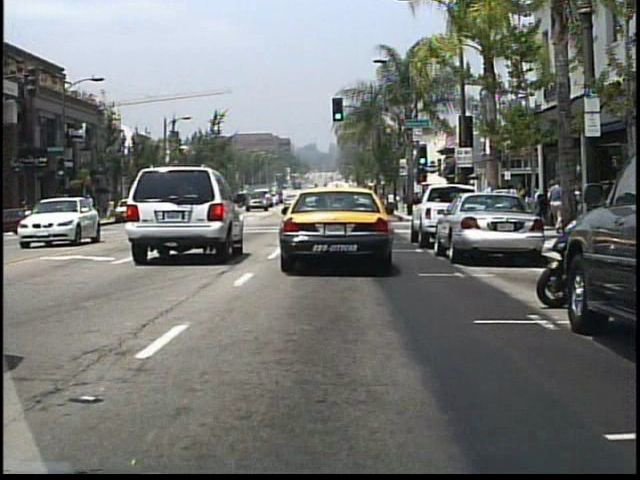person: (546, 178, 564, 231), (512, 179, 530, 232)
